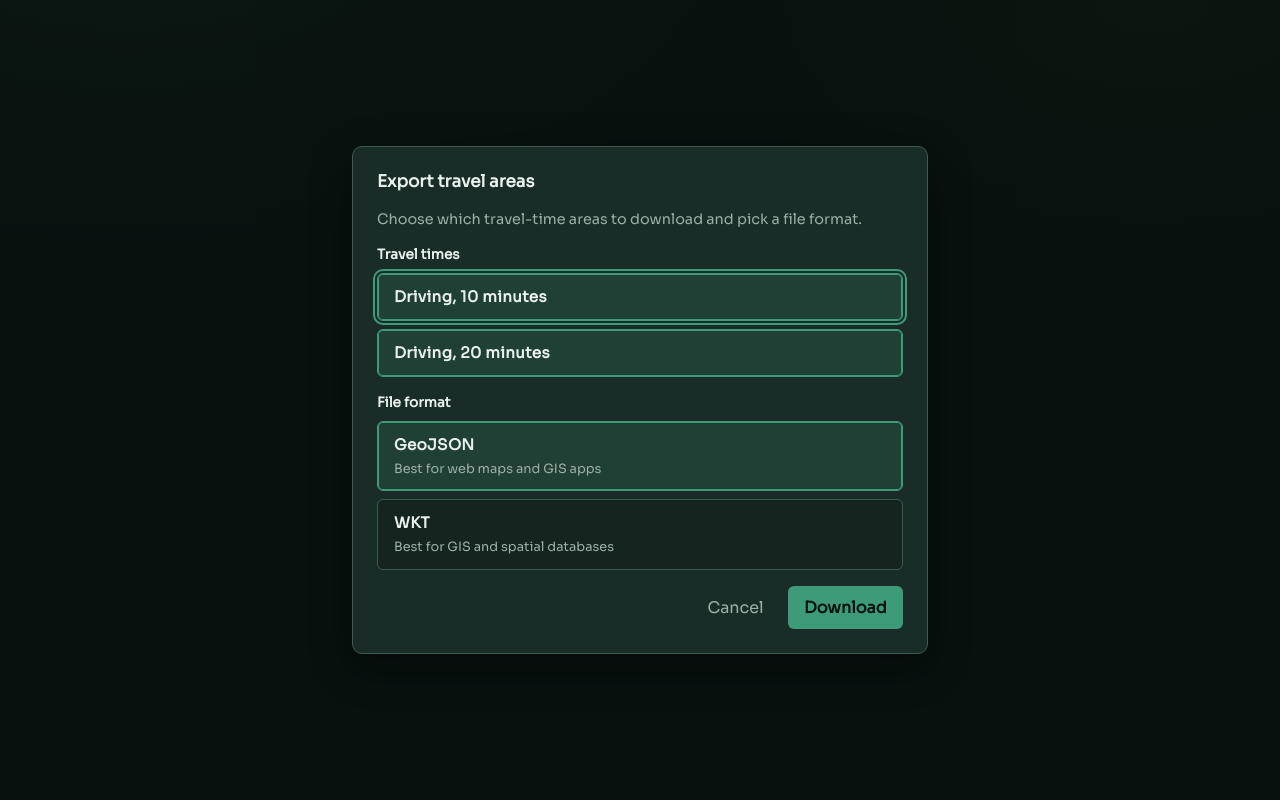
ExportContoursModal › shows an inline error when WKT export fails
Click the button "WKT Best for GIS and spatial databases": (412, 523) x1=377 y1=499 x2=903 y2=570
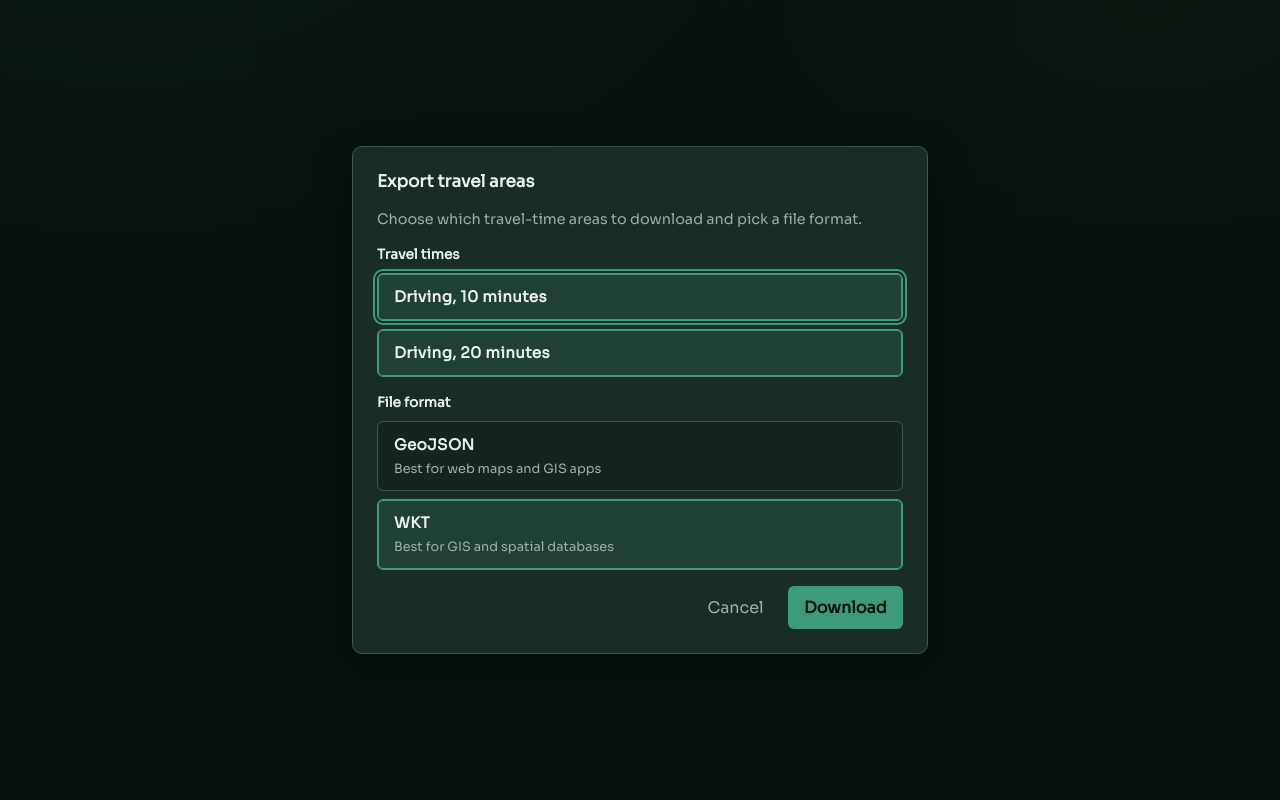
Click the button "Download": (845, 607) x1=788 y1=586 x2=903 y2=629
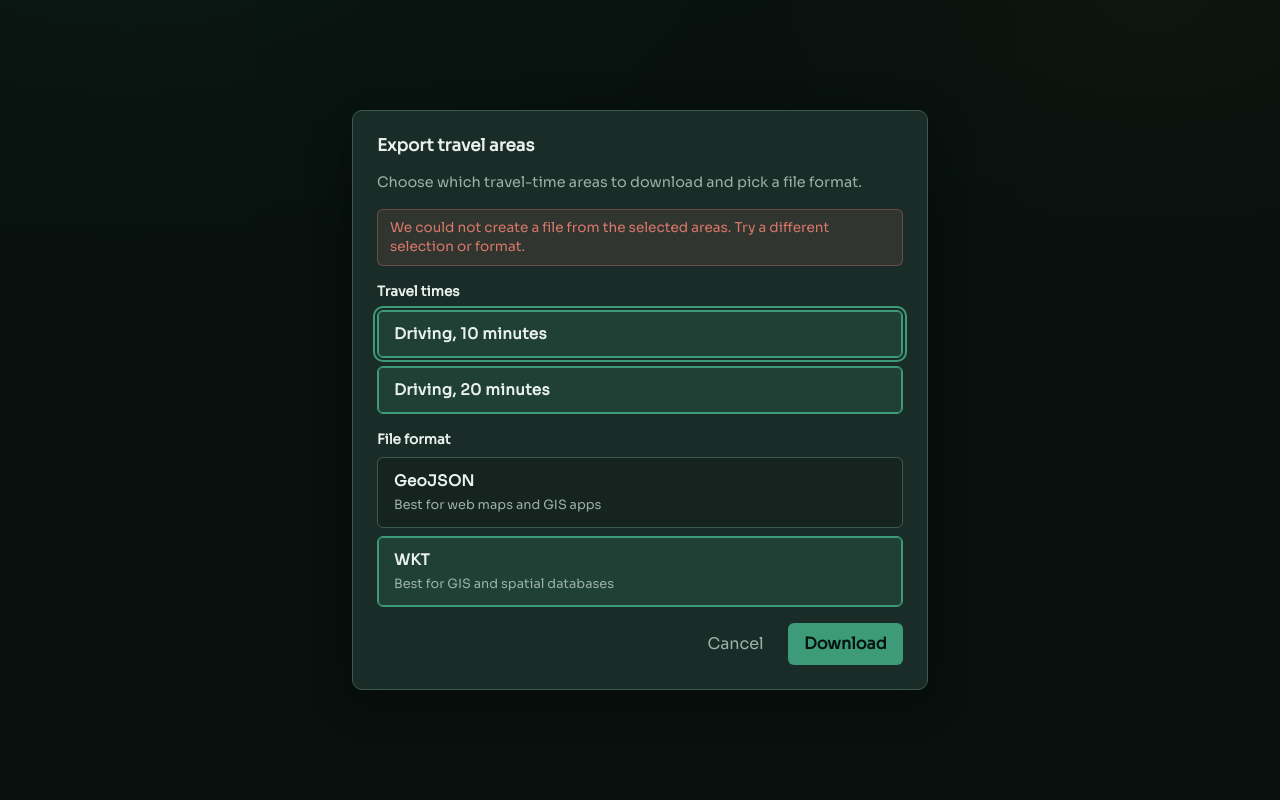
Expected: the text "We could not create a file from the selected areas. Try a different selection or format." is shown, x1=390 y1=219 x2=829 y2=255
